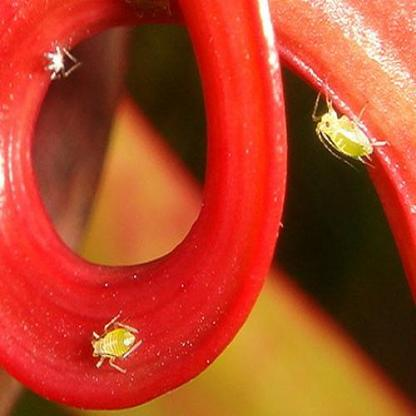aphid: (309, 85, 386, 172), (88, 308, 145, 374)
